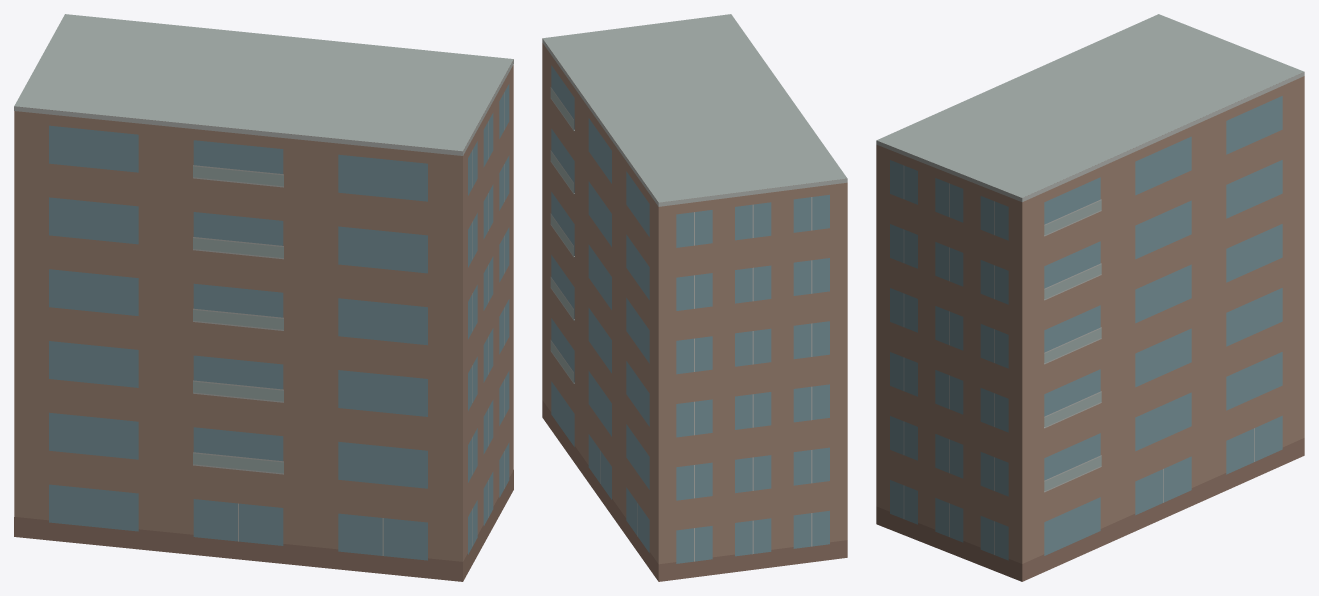
The model's file is survey-upis-32739775.glb.
The picture shows the model from 3 angles, left to right: view 1: azimuth 30°, elevation 25°; view 2: azimuth 150°, elevation 25°; view 3: azimuth 270°, elevation 25°; orthographic projection. The views are drawn at different scales.
Visible parts, largest first — view 1: survey-upis-32739775.tmp; view 2: survey-upis-32739775.tmp; view 3: survey-upis-32739775.tmp.
Part boxes in pixels (box(x1,y1,x2,y2)): survey-upis-32739775.tmp: box(14, 14, 513, 581); survey-upis-32739775.tmp: box(542, 14, 847, 581); survey-upis-32739775.tmp: box(876, 14, 1304, 581).
Bounding box in the file's own units: 22.73 × 22.1 × 22.35.
